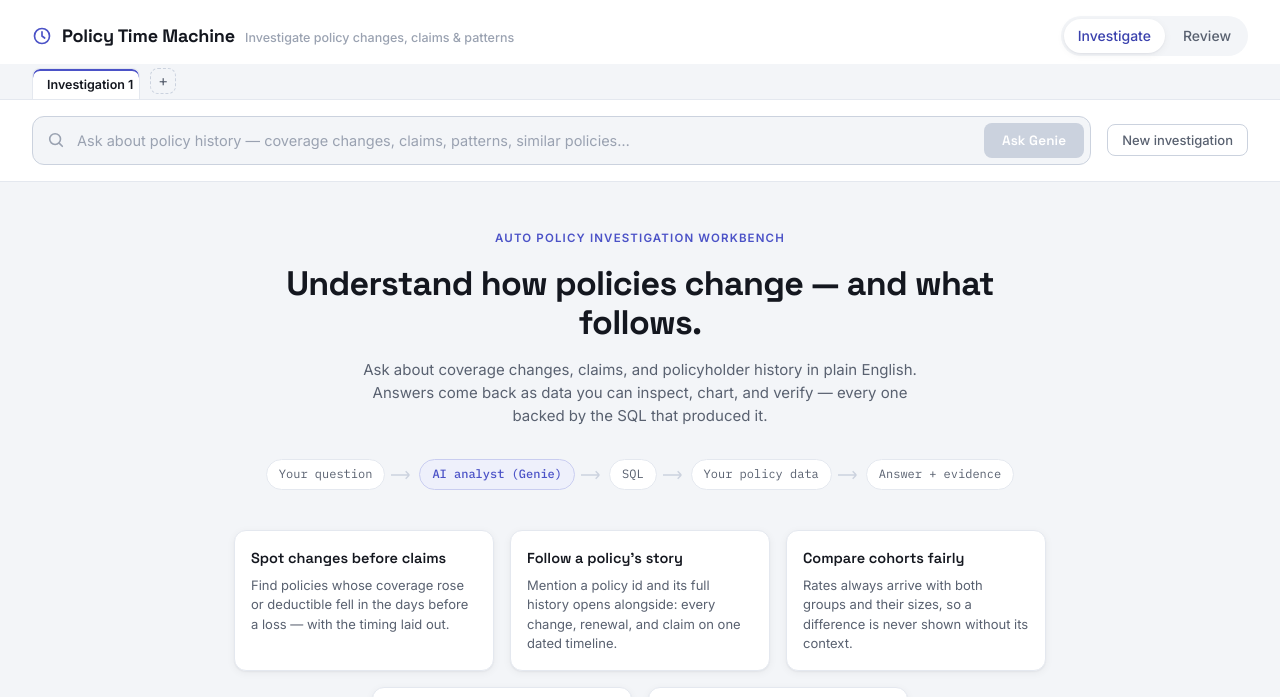
it: App smoke test (mock mode) › a second tab opens with fresh state and the first tab keeps its result
The width and height of the screenshot is (1280, 697).
Replace the text in the field labelled "Ask about policy history" with "Show policies where coverage increased within 30 days before a claim.": x=524, y=140 left=73, top=124, right=976, bottom=157
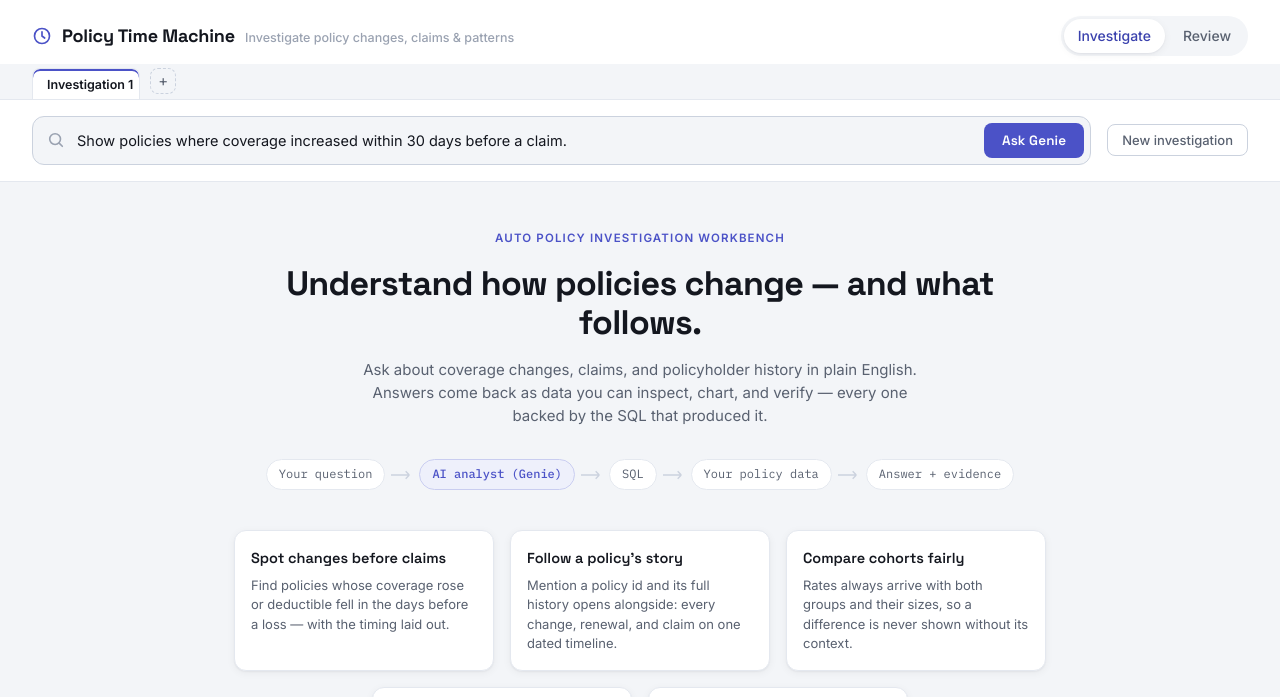
Submit the form named "Ask about policy history", box left=32, top=116, right=1091, bottom=165
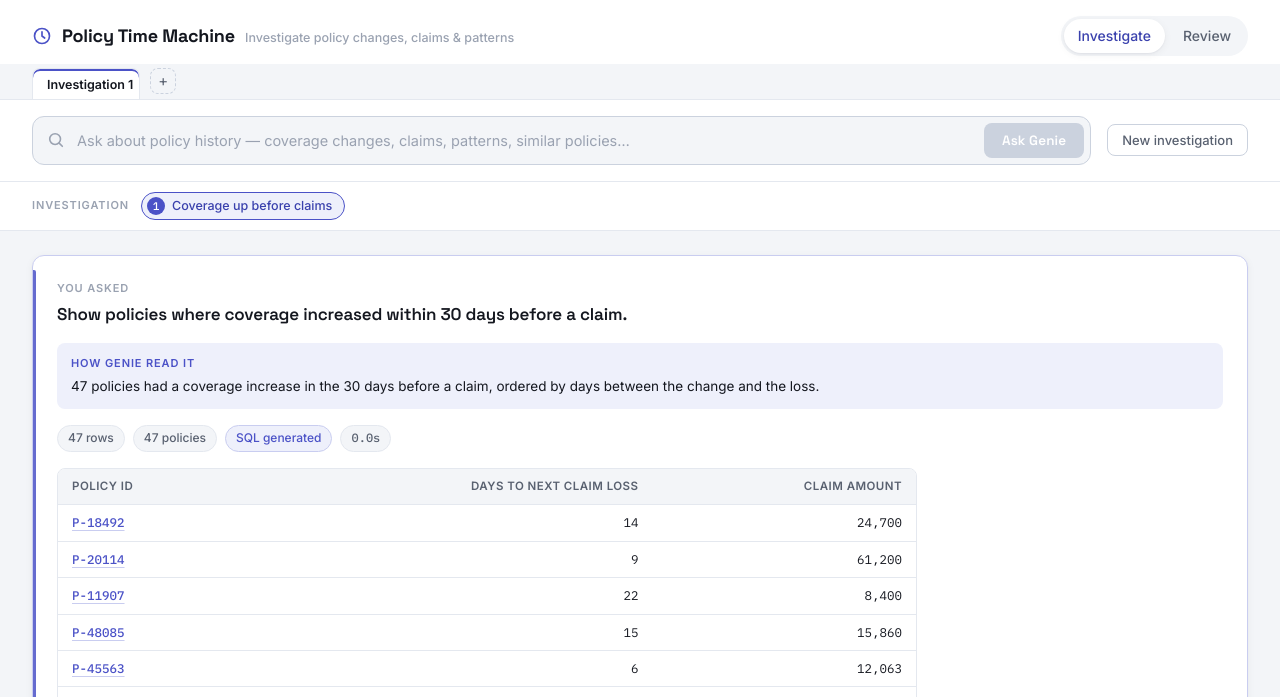
Expected: the text "47 rows" is shown, left=57, top=425, right=125, bottom=452
Click the button named "Open a new investigation tab": x=163, y=81 left=150, top=68, right=176, bottom=94
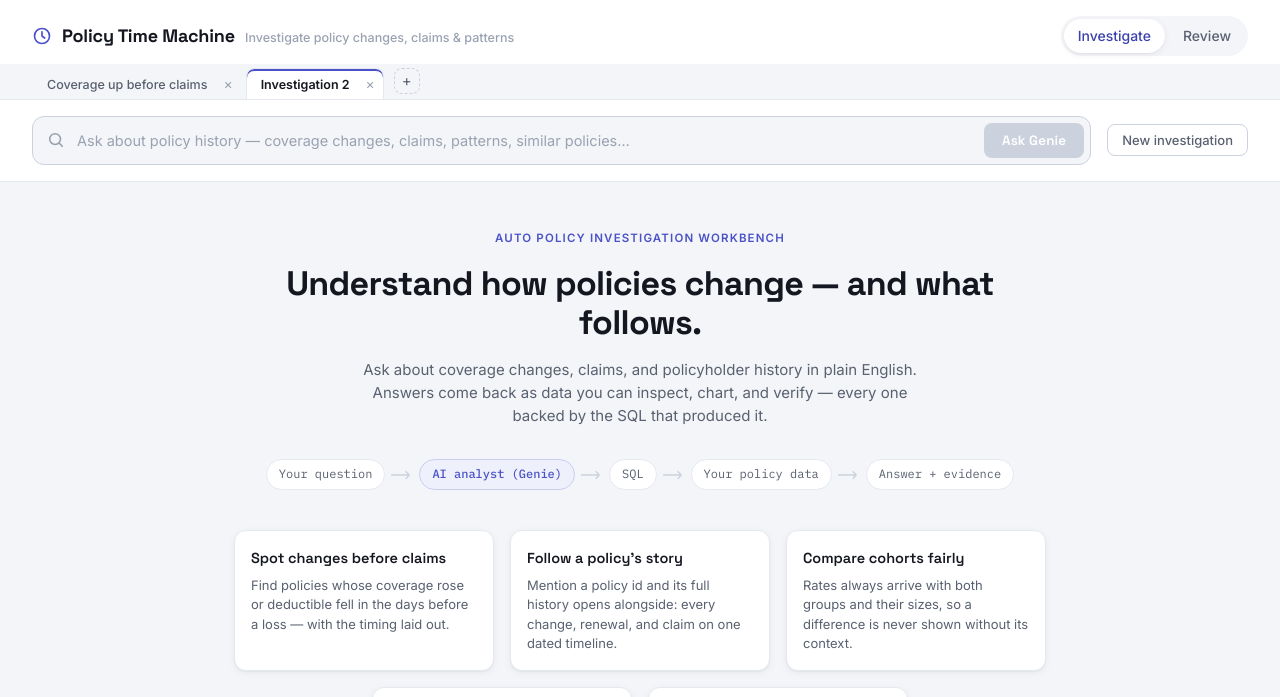
Expected: the number of tabs is 2, left=32, top=68, right=242, bottom=100; left=246, top=68, right=384, bottom=100
Expected: the heading "Understand how policies change — and what follows." is shown, left=234, top=264, right=1046, bottom=342
Expected: the text with class "result-row-count" is gone
Click the button "Coverage up before claims": x=123, y=84 left=33, top=69, right=213, bottom=100
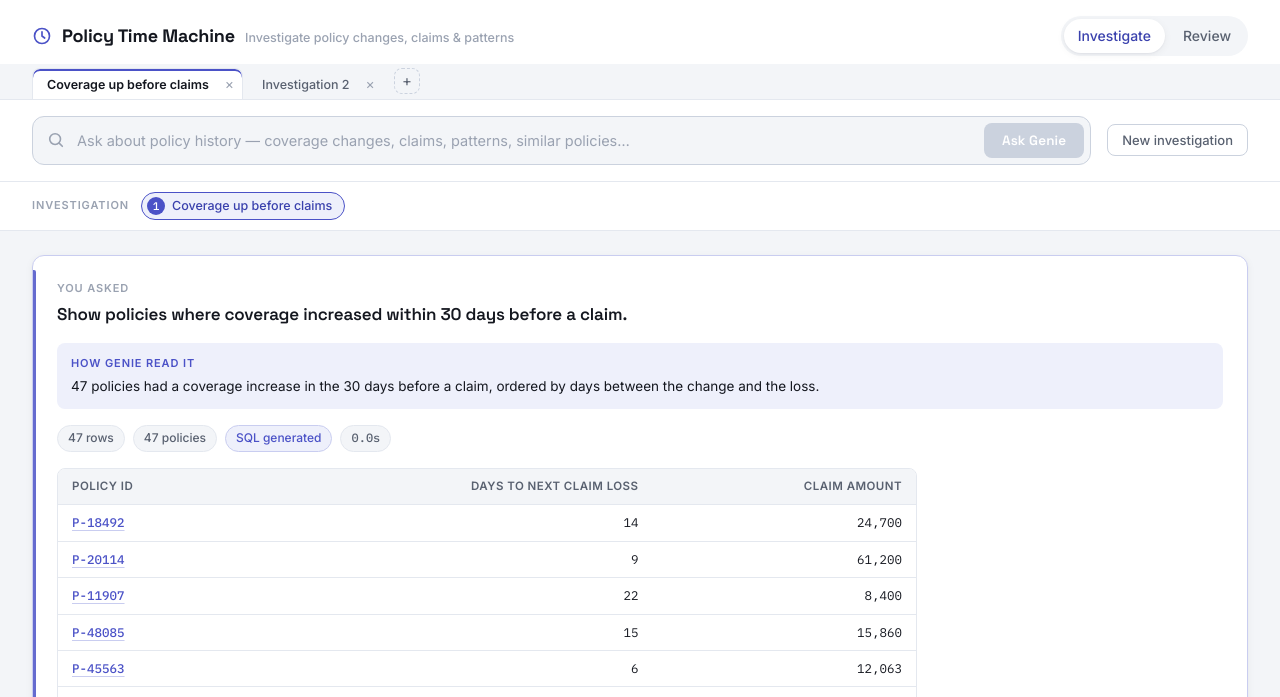
Expected: the text "47 rows" is shown, left=57, top=425, right=125, bottom=452
